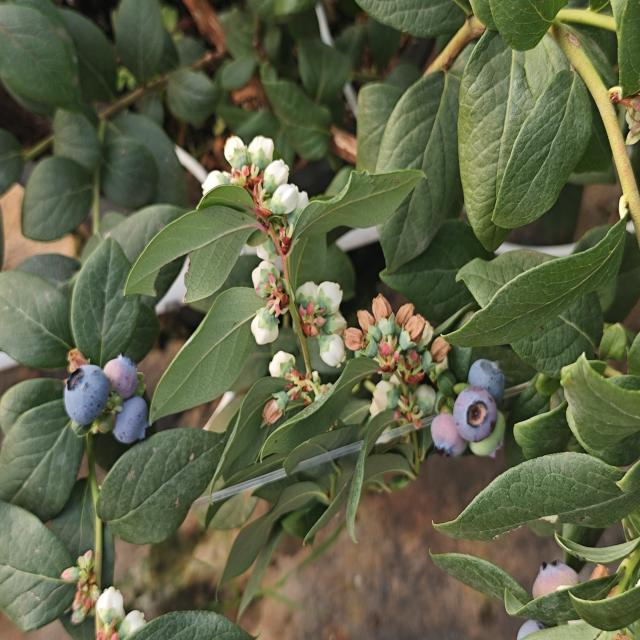ripe: (61, 362, 111, 429), (451, 384, 499, 445), (424, 407, 473, 458), (467, 344, 508, 401), (106, 385, 150, 438), (104, 351, 146, 398)
